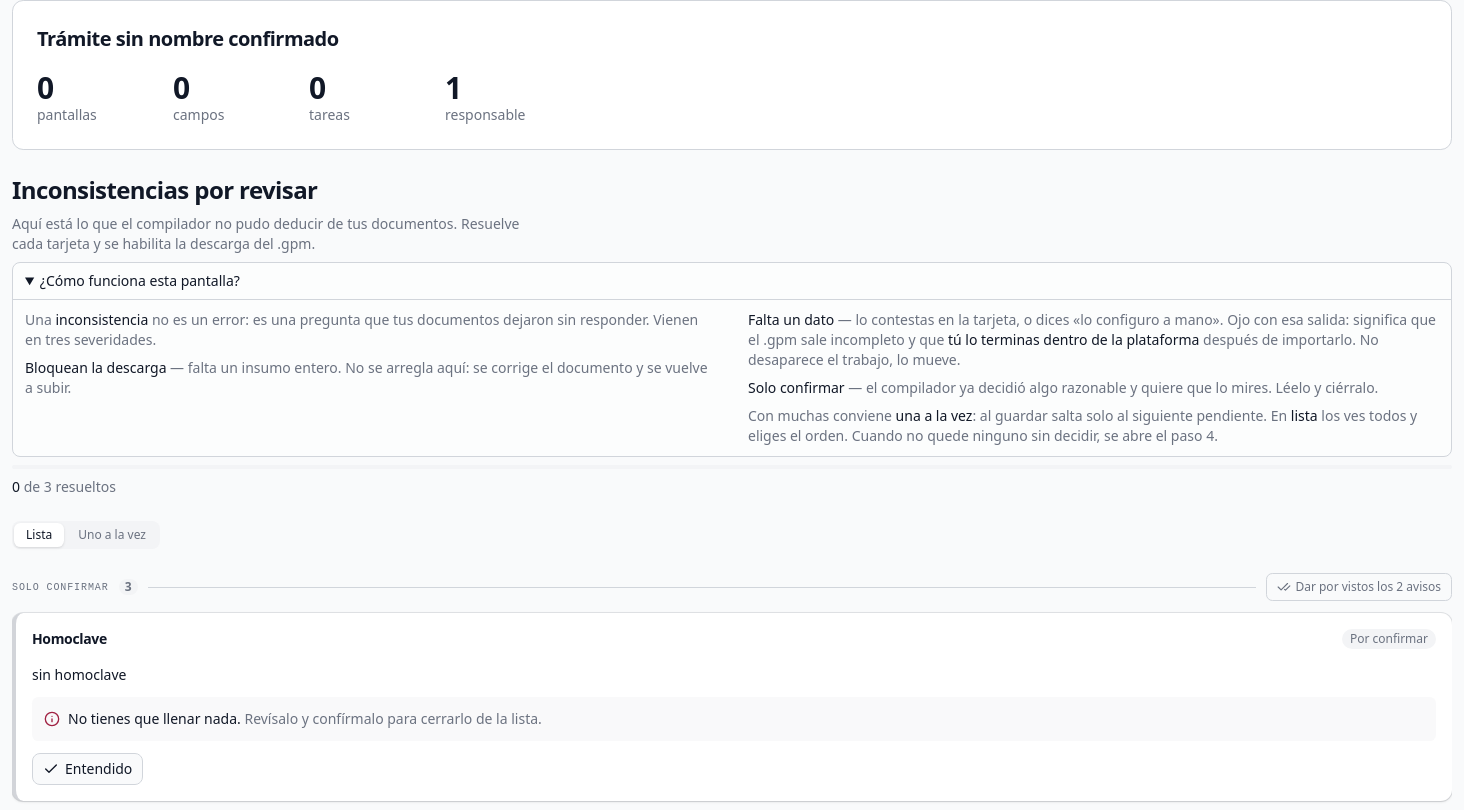
Test: «Dar por vistos» reconoce de una vez los avisos sin decisión y respeta los que sí deciden
What coordinates should you click on to do the following:
click the button "Dar por vistos los 2 avisos"
I would click on:
 (1359, 587)
Its box is [1266, 573, 1452, 601].
(page scrolled)
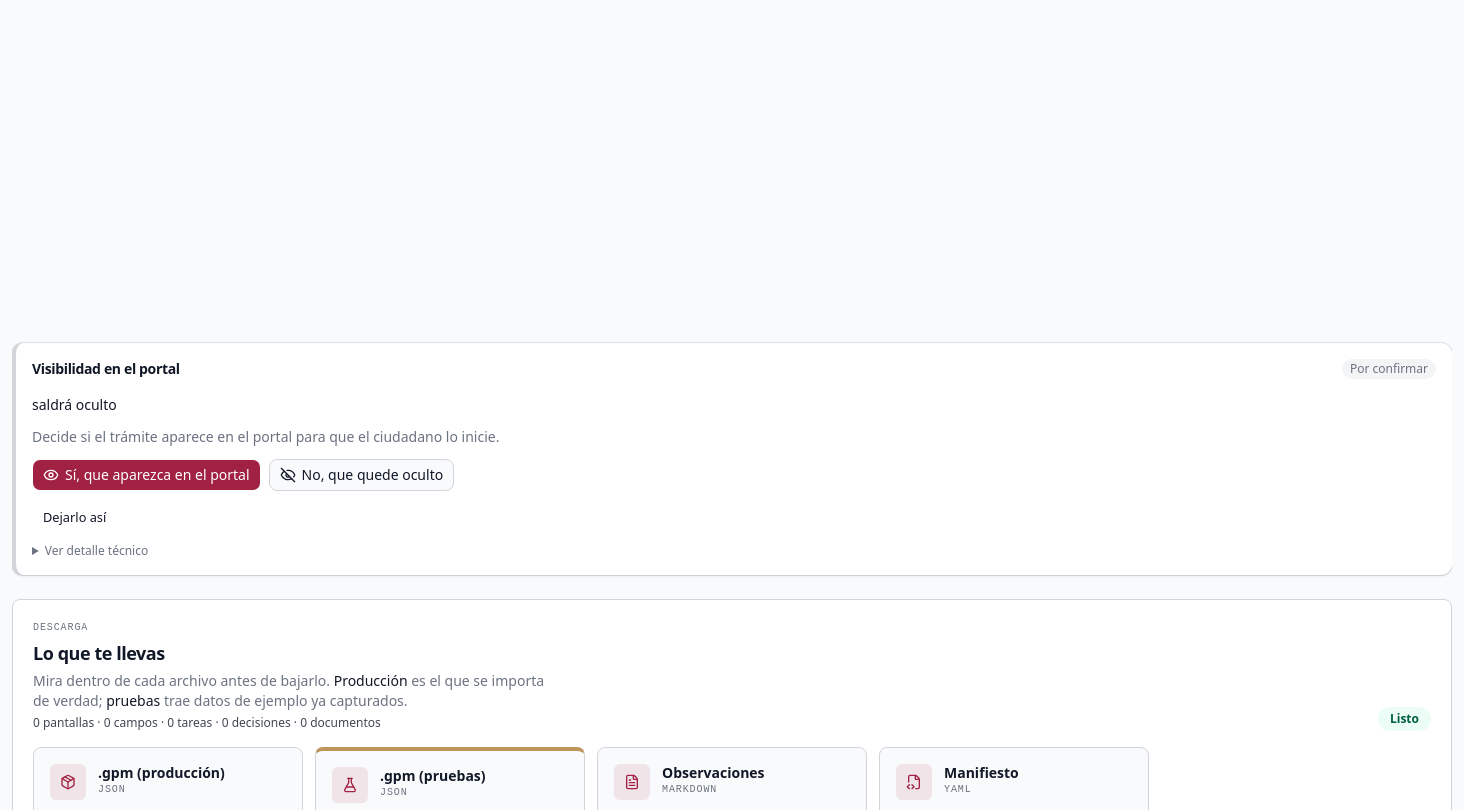
Expected: the text "saldrá oculto" is shown, [32, 395, 117, 414]
Now the button "Dar por vistos" is gone
